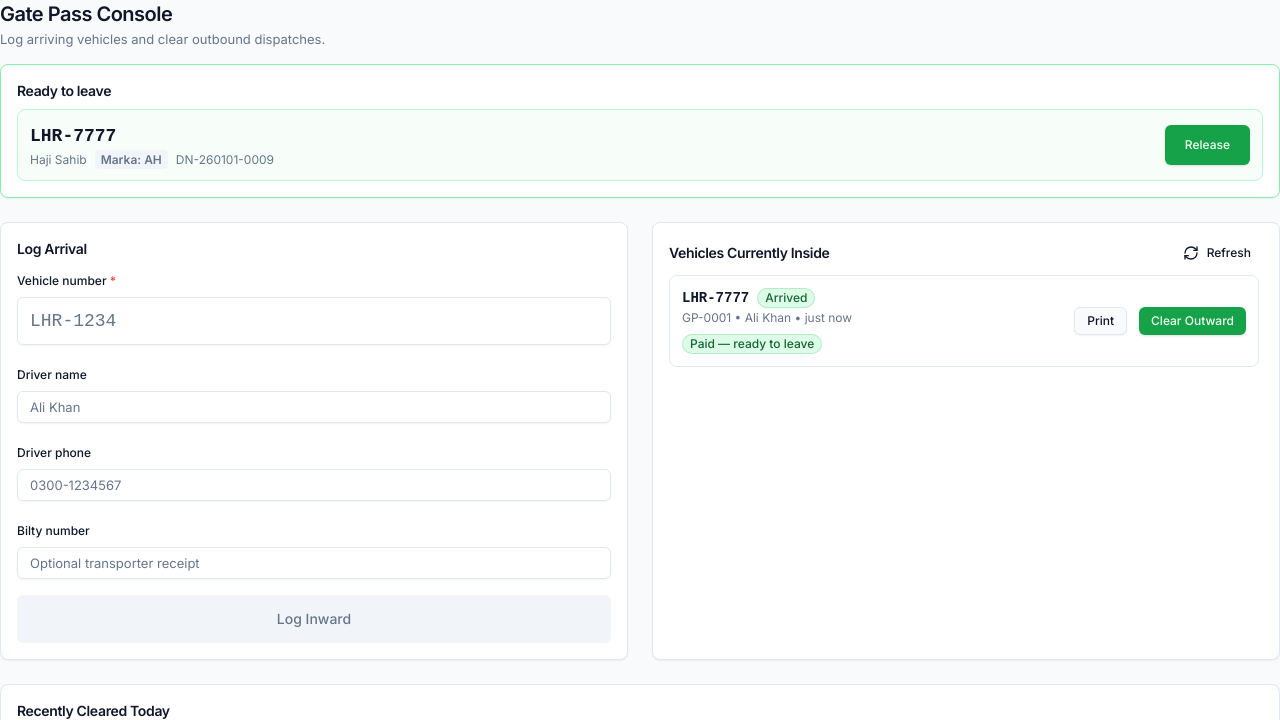
Test: Ready to leave › Release opens the same blind count dialog, and shows no expected count
Click the button "Release".
click(1207, 145)  # box x1=1165 y1=125 x2=1250 y2=165
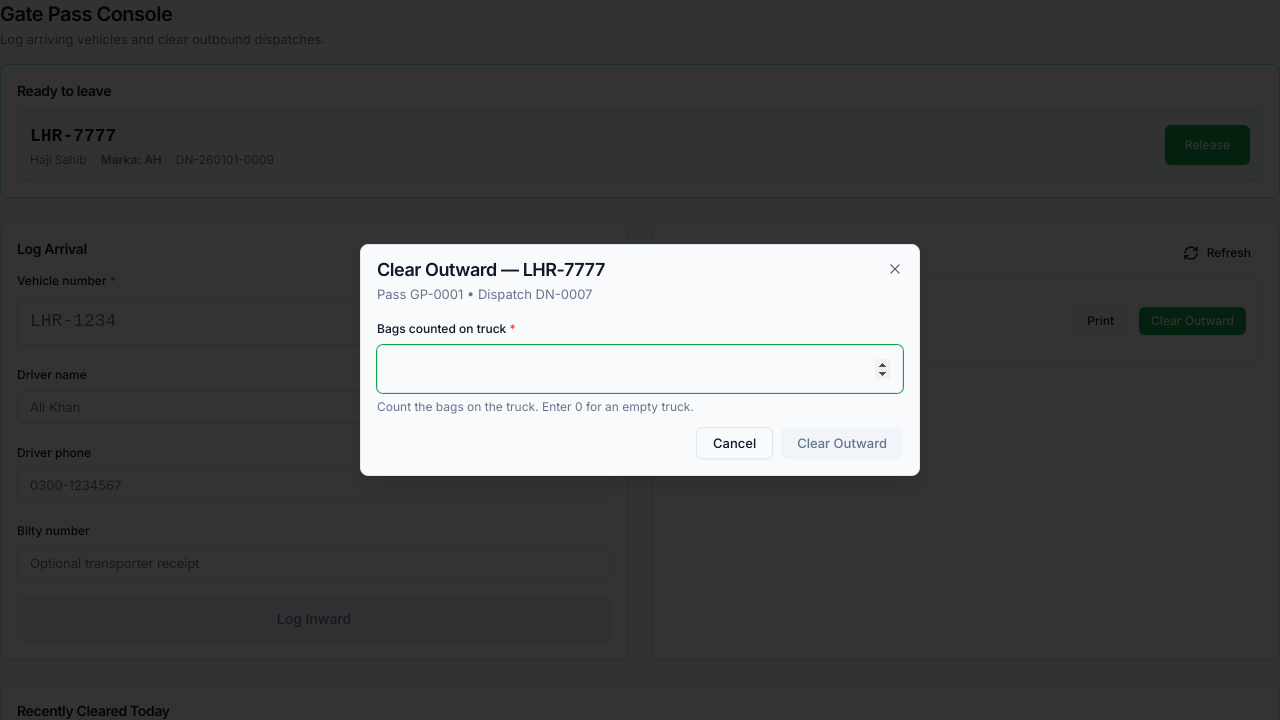
Expected: the number field labelled "Bags counted on truck *" is shown, x1=377 y1=345 x2=903 y2=393
